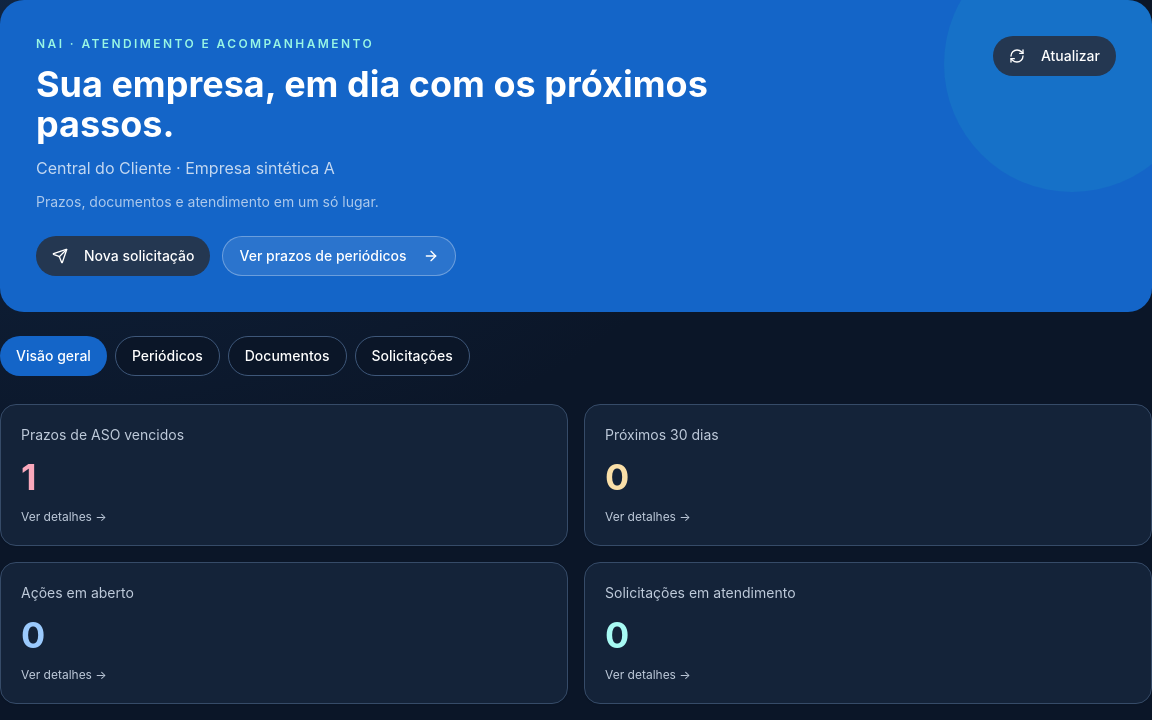
Test: client central workflows › reports empty collections
The image size is (1152, 720).
Click the button "Documentos".
click(287, 356)  # box [228,336,347,376]
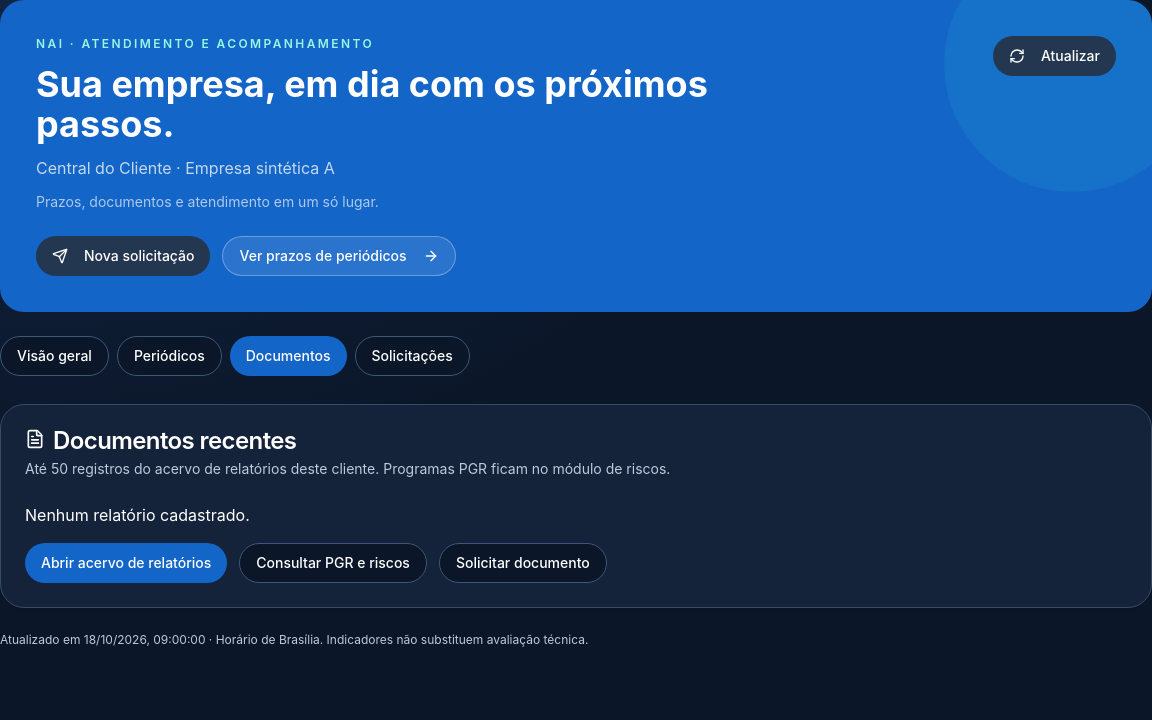
expect the text "Nenhum relatório" is shown: met, box [25,505,250,525]
Click the button "Solicitações".
click(412, 356)  # box [354,336,470,376]
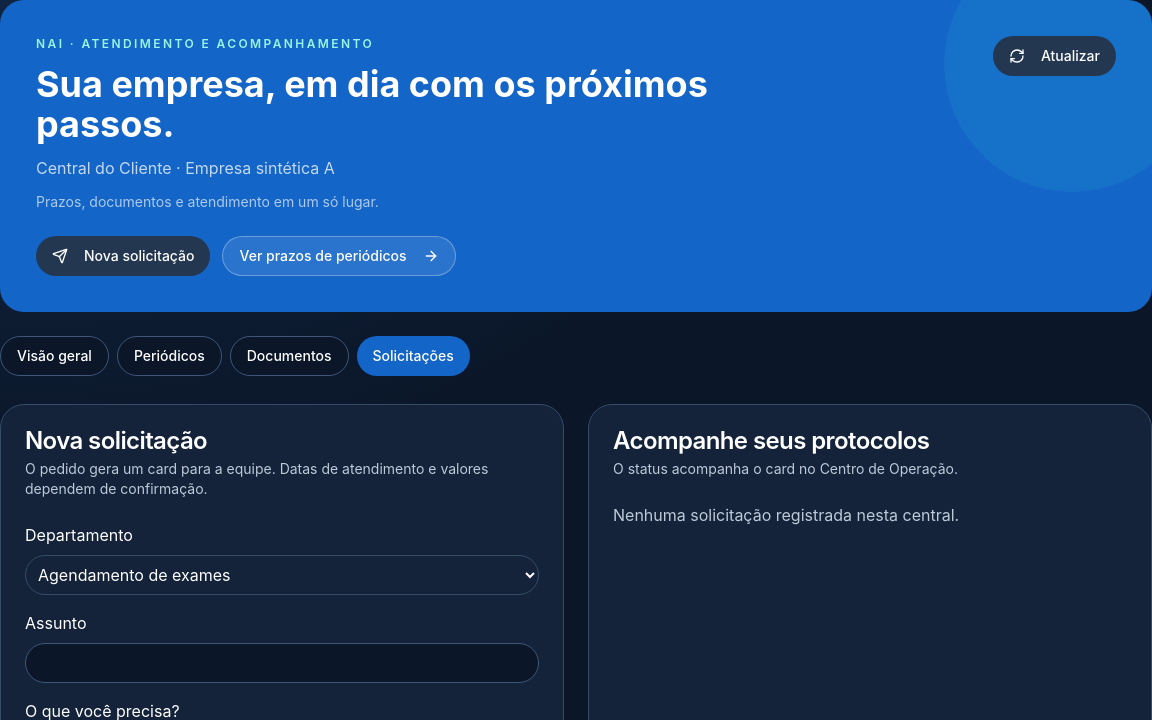
expect the text "Nenhuma solicitação" is shown: met, box [613,505,959,525]
